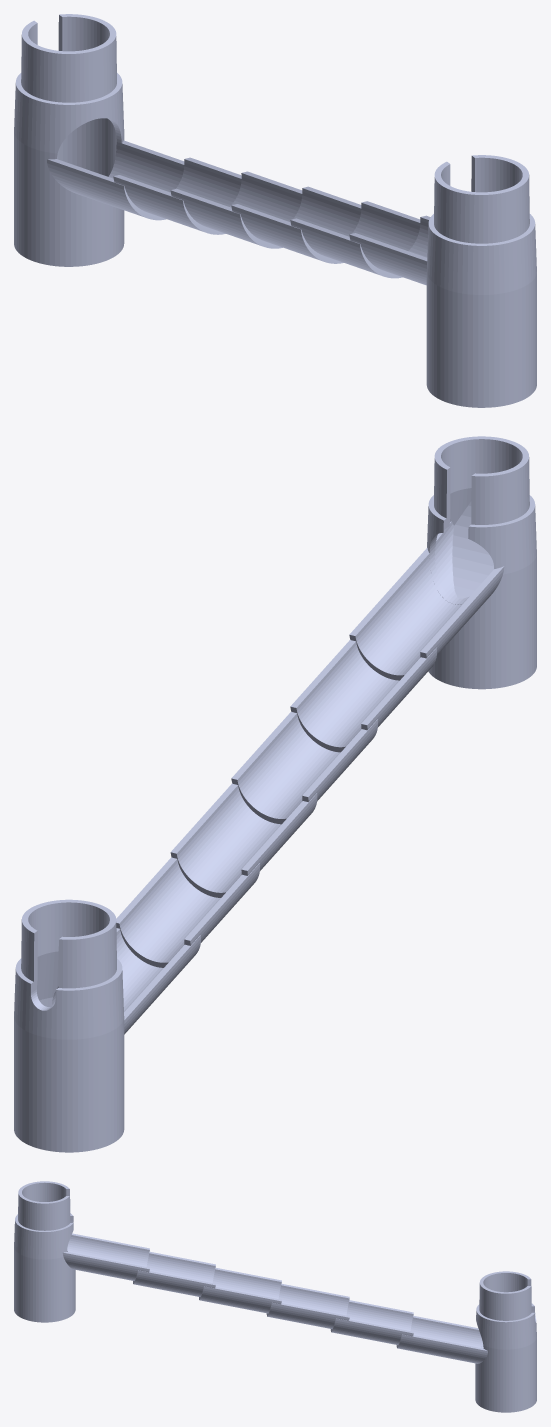
The model's file is ClickyRamp.FBX.
3 renders of one model, top to bottom at view 1: azimuth 30°, elevation 25°; view 2: azimuth 150°, elevation 25°; view 3: azimuth 270°, elevation 25°, orthographic. The views are drawn at different scales.
Visible parts, largest first — view 1: ClickyRamp.SLDPRT|:|F1AE0BC3DAC0B76A624D2AFA7DCC638B30E7BB65; view 2: ClickyRamp.SLDPRT|:|F1AE0BC3DAC0B76A624D2AFA7DCC638B30E7BB65; view 3: ClickyRamp.SLDPRT|:|F1AE0BC3DAC0B76A624D2AFA7DCC638B30E7BB65.
Boxes of the visible parts, x1=… form: ClickyRamp.SLDPRT|:|F1AE0BC3DAC0B76A624D2AFA7DCC638B30E7BB65: x1=14, y1=14, x2=536, y2=407; ClickyRamp.SLDPRT|:|F1AE0BC3DAC0B76A624D2AFA7DCC638B30E7BB65: x1=14, y1=436, x2=536, y2=1152; ClickyRamp.SLDPRT|:|F1AE0BC3DAC0B76A624D2AFA7DCC638B30E7BB65: x1=14, y1=1181, x2=536, y2=1412.
Bounding box in the file's own units: 1.22 × 10.36 × 4.53.
